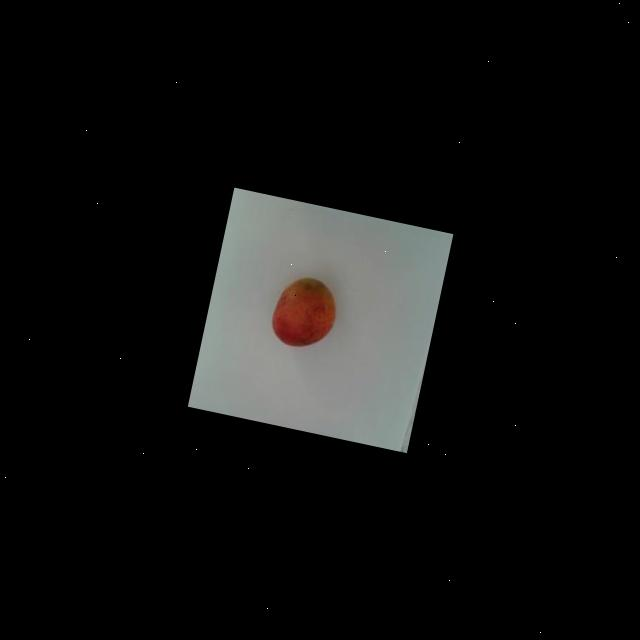Mango: (266, 272, 342, 354)
